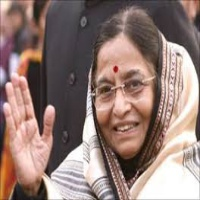ring: (5, 80, 22, 127)
